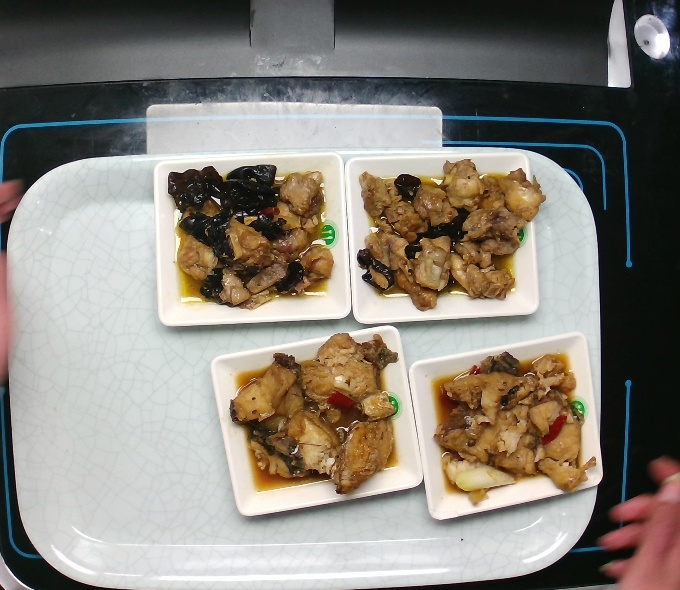wcq-MuErRouKuai: (352, 156, 550, 311), (165, 157, 340, 314)
wcq-YuKuai: (224, 326, 404, 499), (429, 344, 600, 511)
